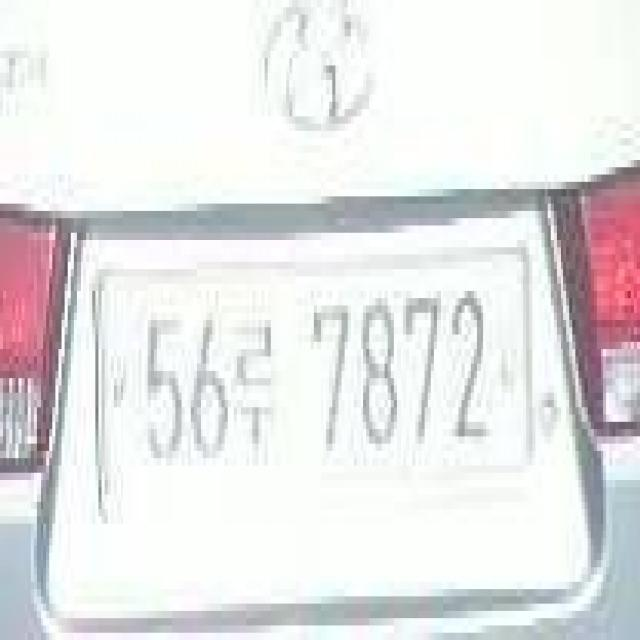illegal_plate: (83, 230, 542, 509)
